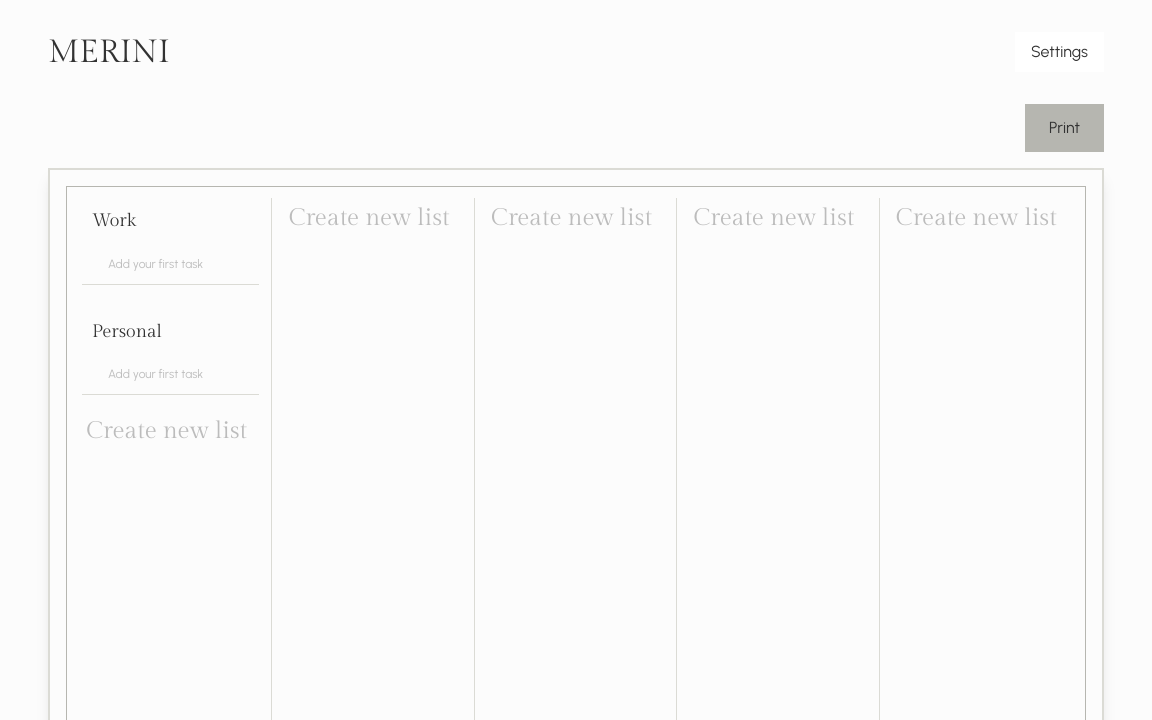
Test: App - Header and Settings Flyout › opens settings flyout when Settings button is clicked
The image size is (1152, 720).
// Click Settings button - try fireEvent first
Click the button "Settings". click: (1059, 52)
box: [1015,32,1104,72]
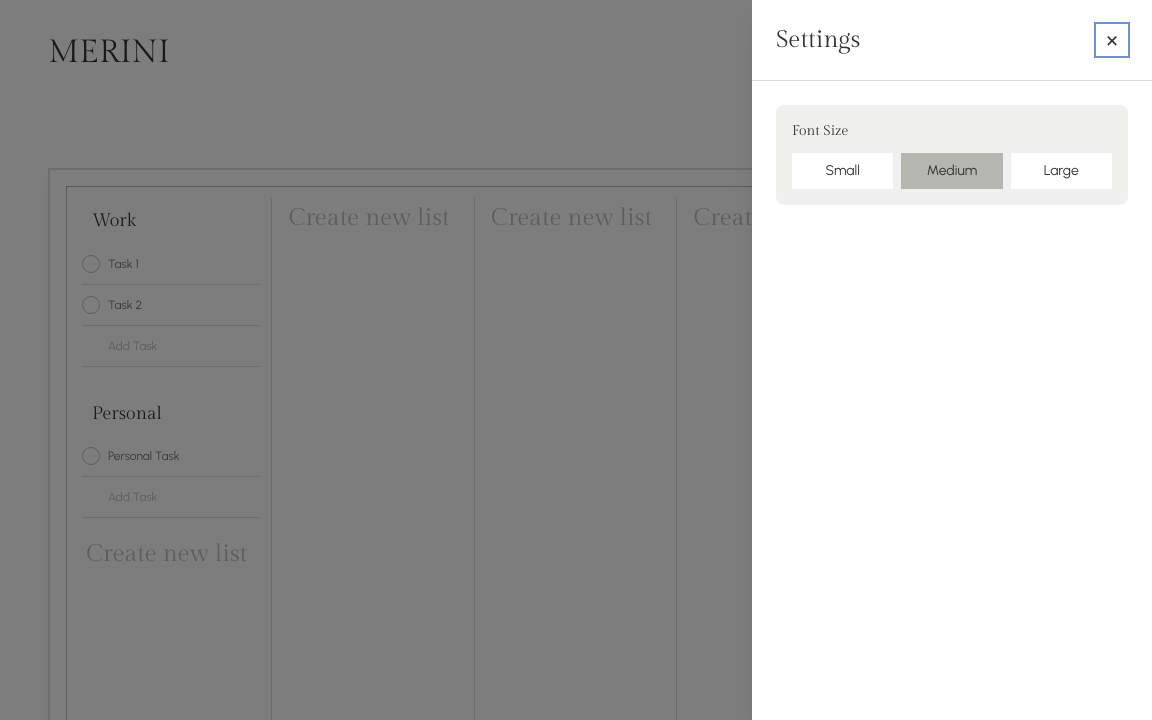
Check: the dialog is shown
Check: the heading "Settings" is shown, box [776,28,860,52]
Check: the button named "close settings" is shown, box [1096,24,1128,56]
